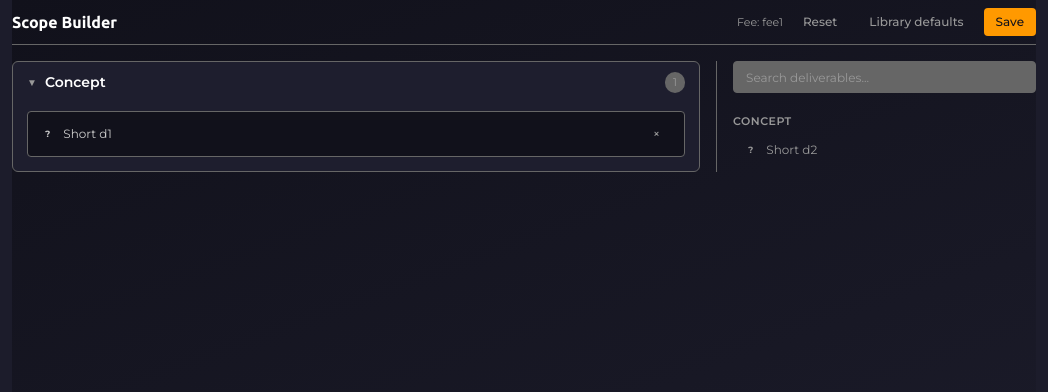
Scenario: ScopeBuilder save state › load and reset use the saved scope › Reset returns to the last saved state, not to library defaults
Click the button titled "Remove deliverable": (656, 134) [641,120,672,148]
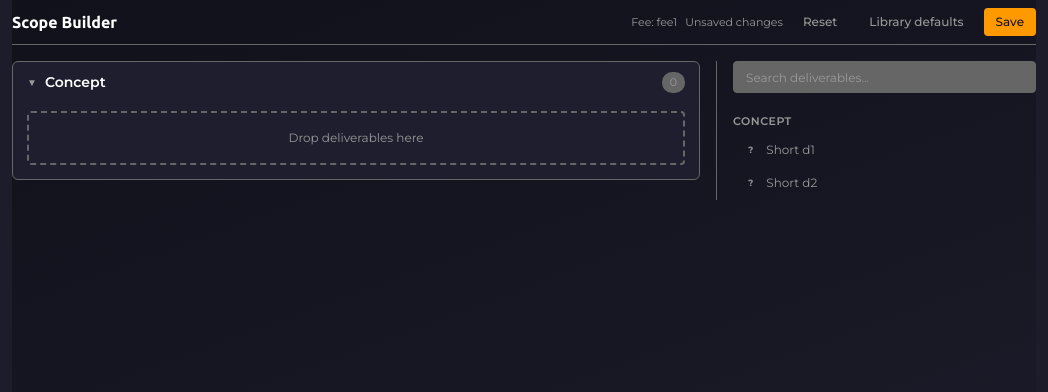
Click the button "Reset": (820, 22) [791,8,849,36]
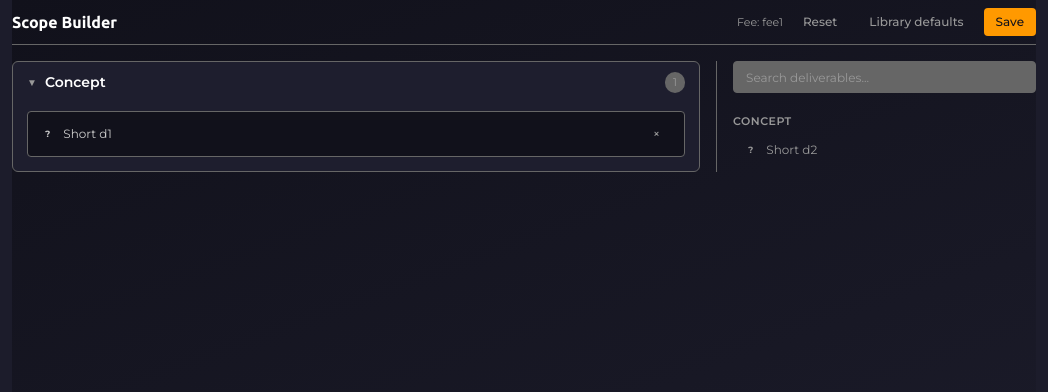
Expected: the number of buttons titled "Remove deliverable" is 1, [641,120,672,148]
Expected: the text "Unsaved changes" is gone
